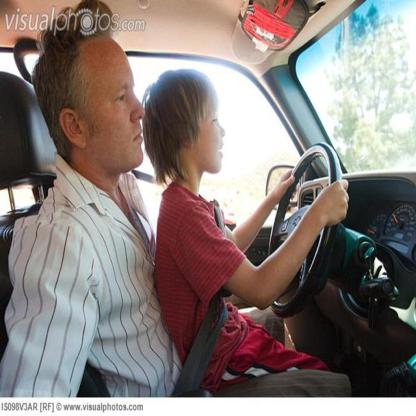face: (83, 49, 147, 172), (197, 94, 225, 176)
